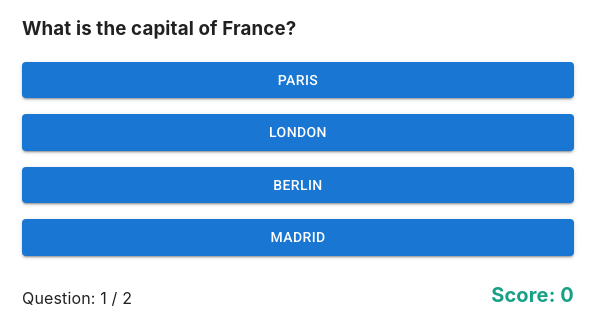
Game › submits an answer correctly
Expected: the heading "What is the capital of France?" is shown, top-left (22, 17), bottom-right (296, 40)
Click the button "Paris" at (298, 80), box top-left (22, 62), bottom-right (574, 98)
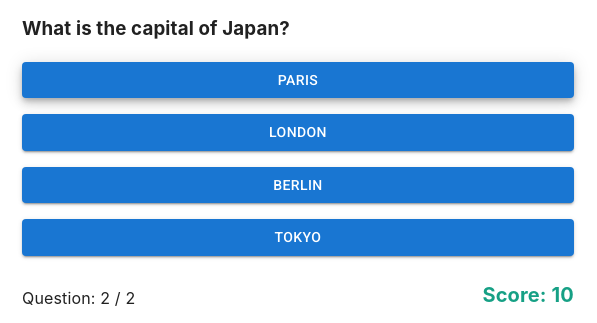
Expected: the heading "What is the capital of Japan?" is shown, top-left (22, 17), bottom-right (290, 40)
